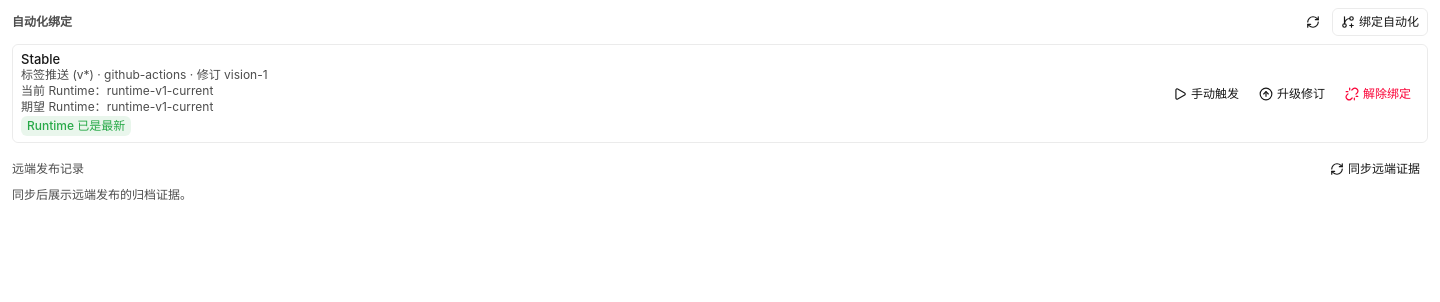
Scenario: AutomationBindingsSection › synchronizes remote evidence and surfaces expired attempts explicitly
Expected: the element with test id "automation-remote-evidence" is shown, left=12, top=155, right=1428, bottom=203
Click the button "同步远端证据": [1375, 169] box left=1322, top=155, right=1428, bottom=183
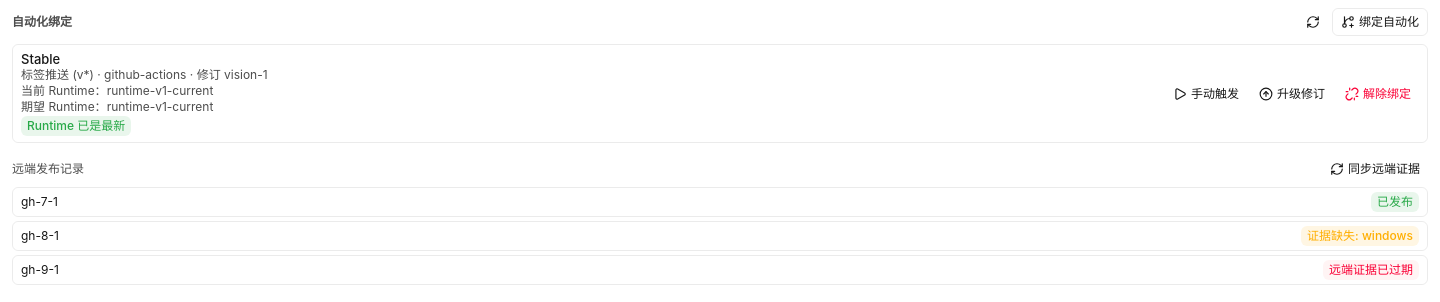
Now the list item with test id "automation-remote-attempt-gh-7-1" shows "已发布", box left=1377, top=194, right=1413, bottom=209
Now the list item with test id "automation-remote-attempt-gh-8-1" shows "证据缺失: windows", box left=1307, top=228, right=1413, bottom=243
Now the text with test id "automation-remote-expired-gh-9-1" reads "远端证据已过期", box left=1329, top=262, right=1413, bottom=277
